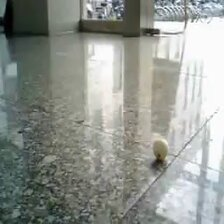w: (151, 138, 170, 160)
